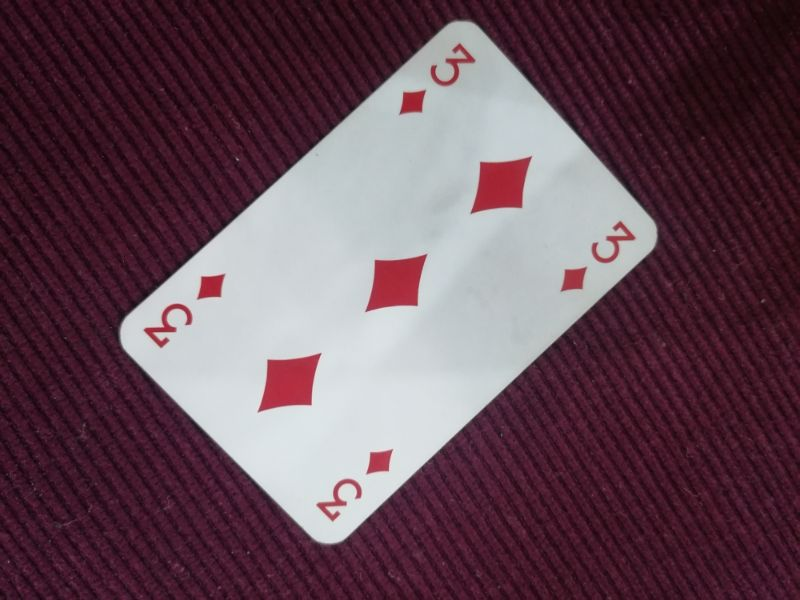3d: (141, 268, 232, 353), (312, 443, 402, 527), (396, 38, 478, 119), (558, 218, 641, 296)
